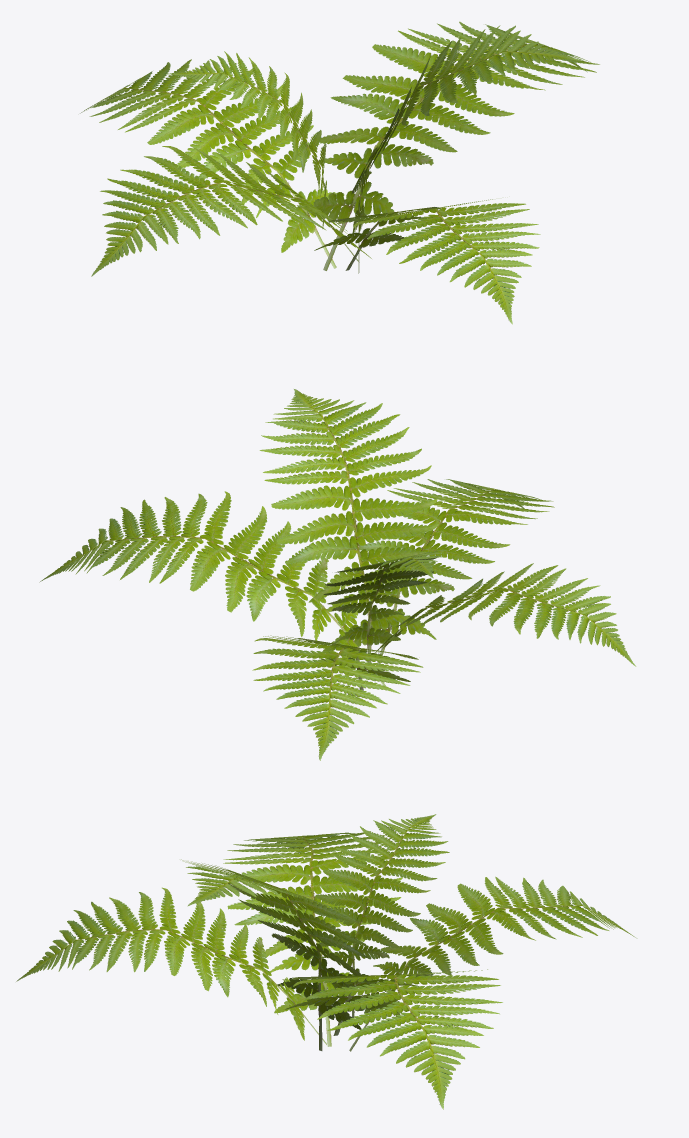
The picture shows the model from 3 angles, top to bottom: view 1: azimuth 30°, elevation 25°; view 2: azimuth 150°, elevation 25°; view 3: azimuth 270°, elevation 25°; orthographic projection. The views are drawn at different scales.
Visible parts, largest first — view 1: ferns 1; view 2: ferns 1; view 3: ferns 1.
Boxes of the visible parts, bbox=[...] form: ferns 1: bbox=[80, 21, 599, 324]; ferns 1: bbox=[39, 389, 636, 760]; ferns 1: bbox=[16, 814, 637, 1109].
Bounding box in the file's own units: 6733 × 2482 × 6638.
